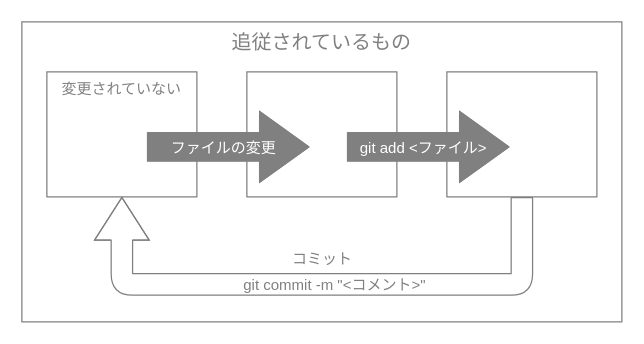
Some shapes in this 644 by 344 pixel diagram are drawn without their labels. Here are the shapes that lost their labels. From the top down, the centre of each, then its label:
[321,134]: 変更済み
[521,134]: ステージされている
